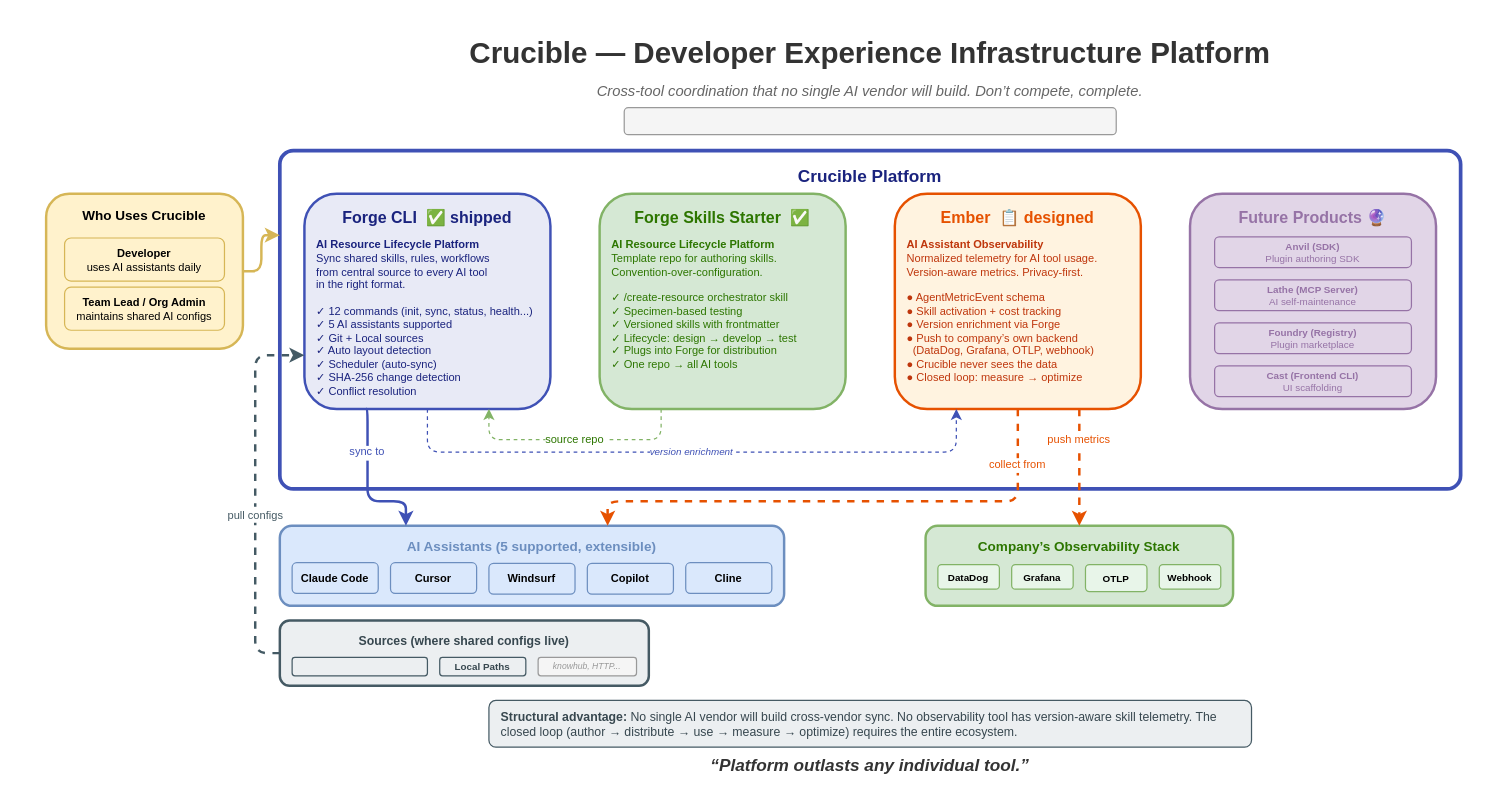
Some shapes in this 1506 by 804 pixel diagram are drawn without their labels. The centre of each missing label's shape, as x and y in pixels:
"@crucibledx | MIT License | TypeScript + Bun | Single-binary CLI" goes at (x=869, y=120).
"Git Repos (SSH/HTTPS)" goes at (x=359, y=666).
